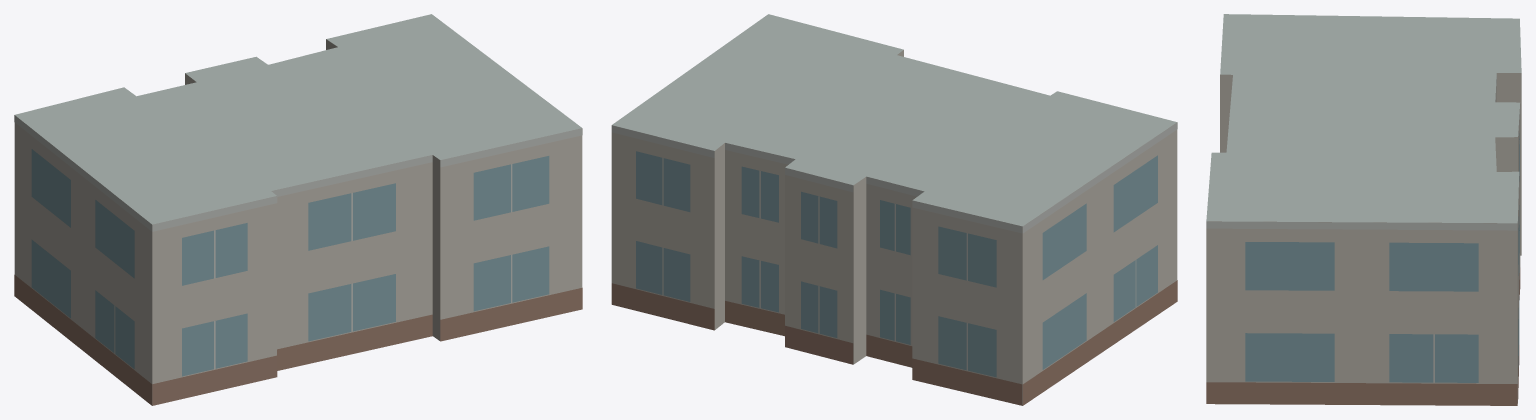
Rendered from survey-upis-32879466.glb.
3 views of the same model, side by side, from view 1: azimuth 30°, elevation 25°; view 2: azimuth 150°, elevation 25°; view 3: azimuth 270°, elevation 25° (orthographic).
Parts seen in each view (by area): view 1: survey-upis-32879466.tmp; view 2: survey-upis-32879466.tmp; view 3: survey-upis-32879466.tmp.
Boxes of the visible parts, box(x1,y1,x2,y2) form: survey-upis-32879466.tmp: box(14, 14, 582, 405); survey-upis-32879466.tmp: box(611, 14, 1177, 405); survey-upis-32879466.tmp: box(1206, 14, 1521, 405).
Size of the model in its own units: 15 by 6.1 by 9.56.
